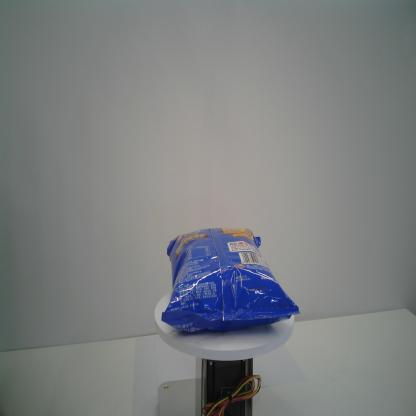Puffed Food: (159, 226, 302, 333)
